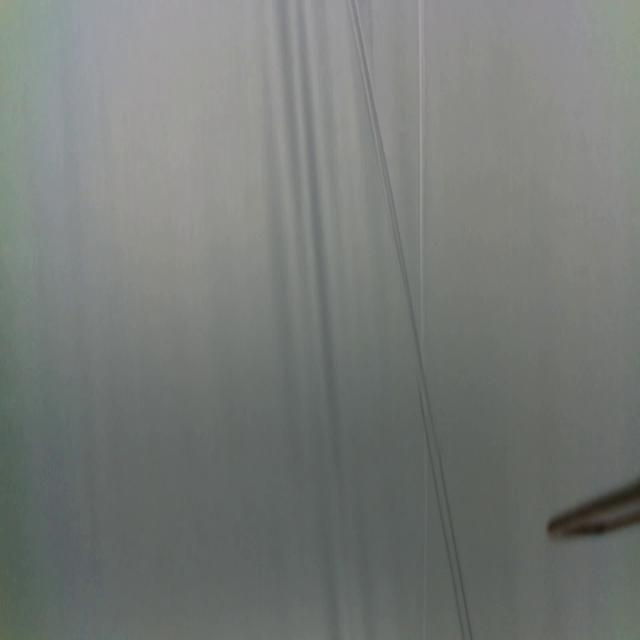crease: (352, 1, 472, 636), (416, 0, 430, 638)
